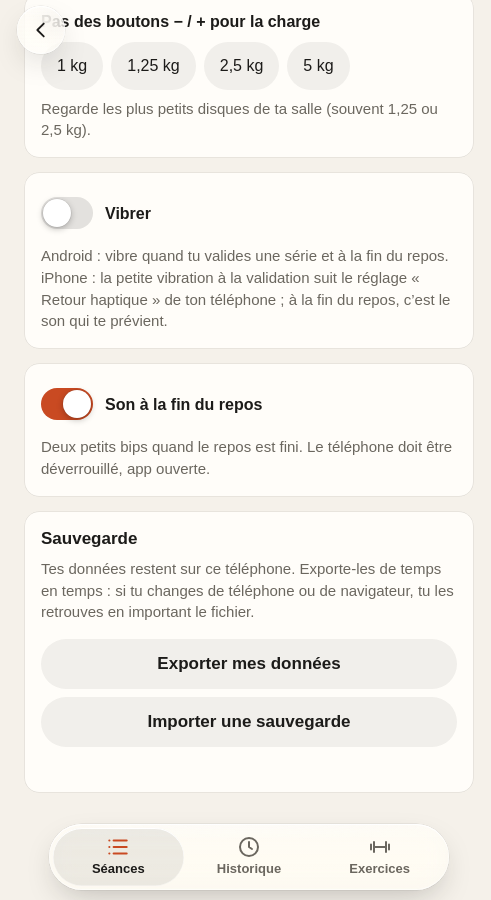
Test: sauvegarde depuis les réglages › exporte un fichier JSON nommé avec la date
(page scrolled)
Click the button "Exporter mes données": coordinates (249, 664) 41,639 -> 457,689
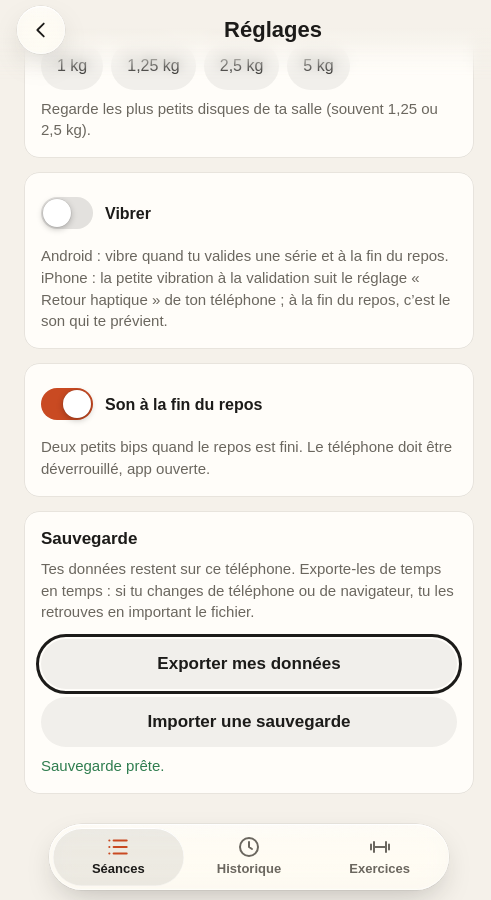
Now the text "Sauvegarde prête." is shown, box 41,757 -> 164,774
